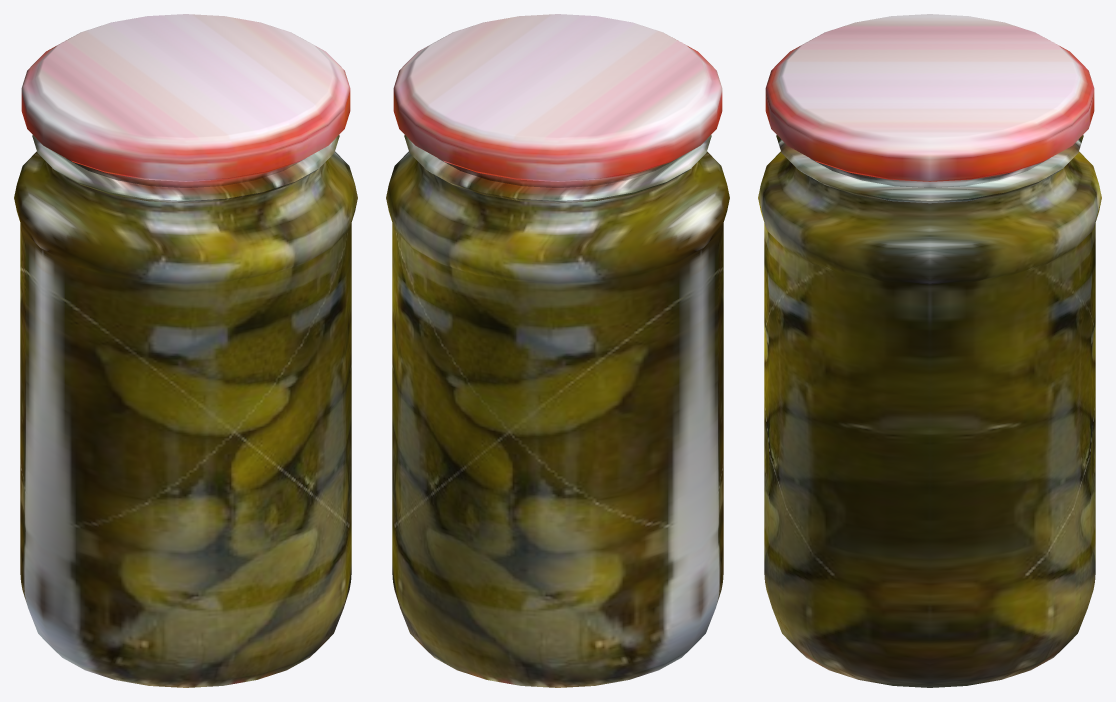
File: pickles.dae
3 views of the same model, side by side, from view 1: azimuth 30°, elevation 25°; view 2: azimuth 150°, elevation 25°; view 3: azimuth 270°, elevation 25° (orthographic).
Visible parts, largest first — view 1: group_1 (×2); view 2: group_1 (×2); view 3: group_1 (×2).
Part boxes in pixels (x1,y1,x2,y2): group_1 (×2): (14,14,357,687); group_1 (×2): (386,14,729,687); group_1 (×2): (758,14,1101,687).
Bounding box in the file's own units: 2.34 × 2.34 × 4.2.
Materials: 1 (1 with a texture image).
